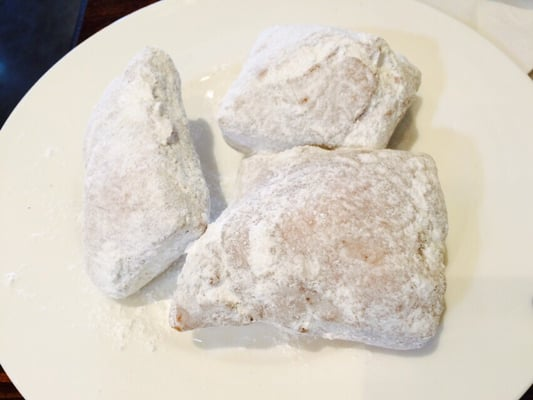salad: (168, 144, 450, 352)
